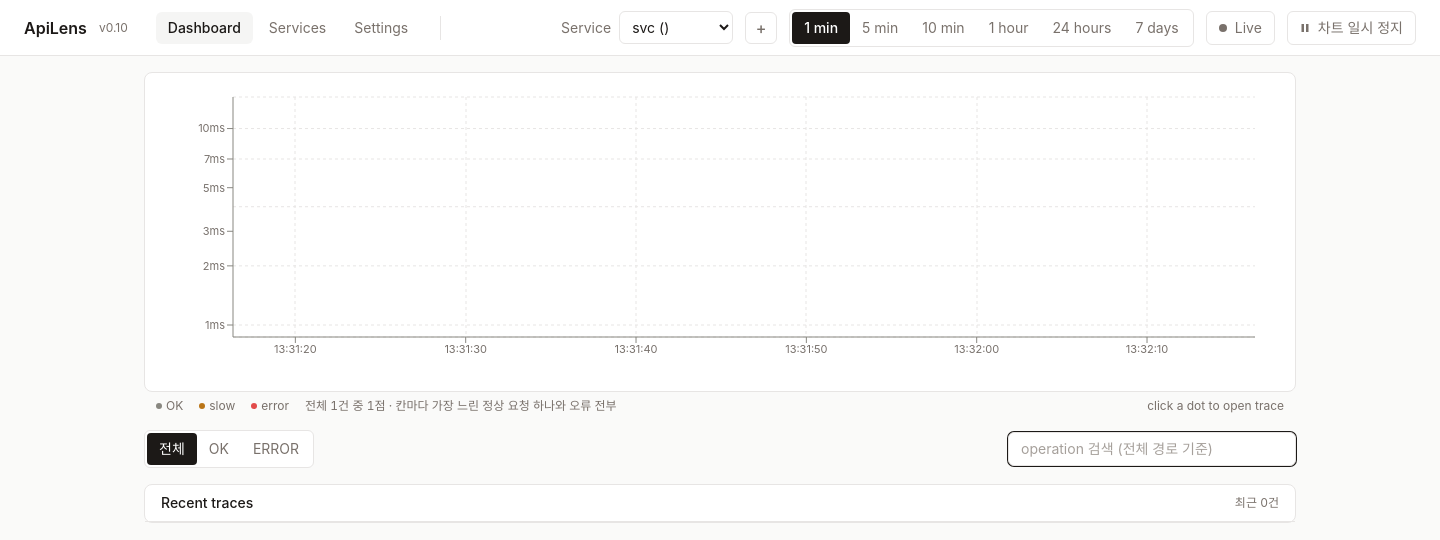
Test case: Dashboard — 흐르는 차트 배선 › keepsSearchFocusAndTypedTextAcrossZeroAndResults — 결과 → 0건
In the field labelled "operation 검색": (1152, 449) [1008,432,1296,466], type "ab"
Wait 350 ms
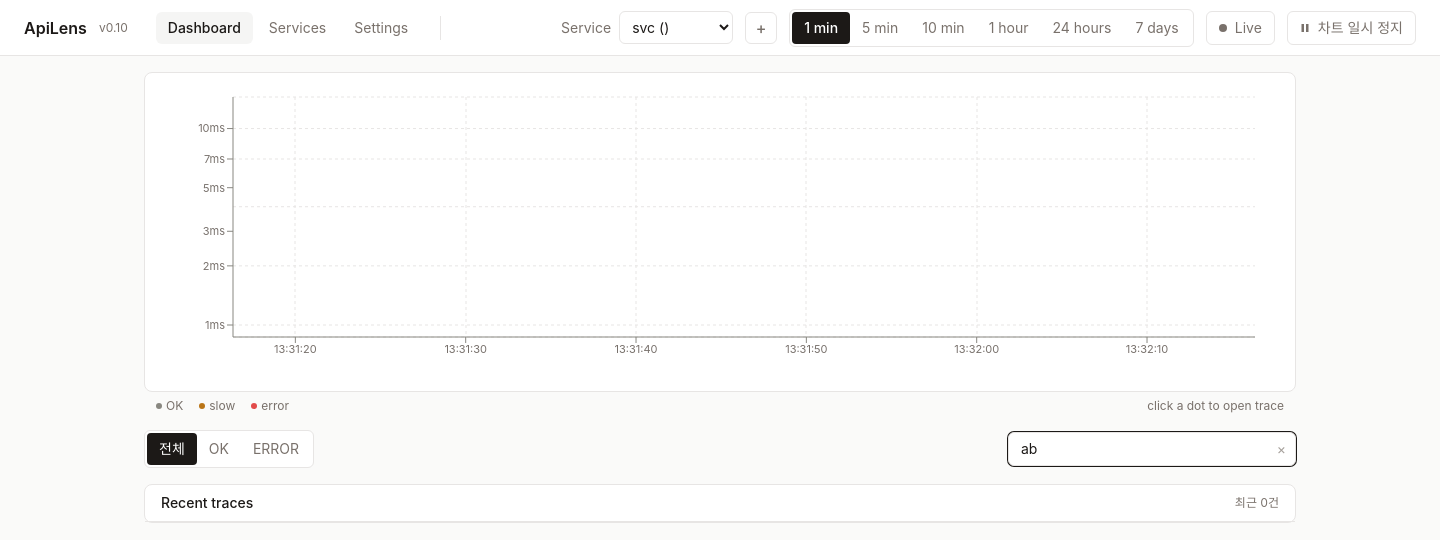
Note: 주소로 밀려난 뒤 더 친 글자.
Replace the text in the field named "operation 검색" with "abc": (1152, 449) [1008,432,1296,466]
Wait 100 ms
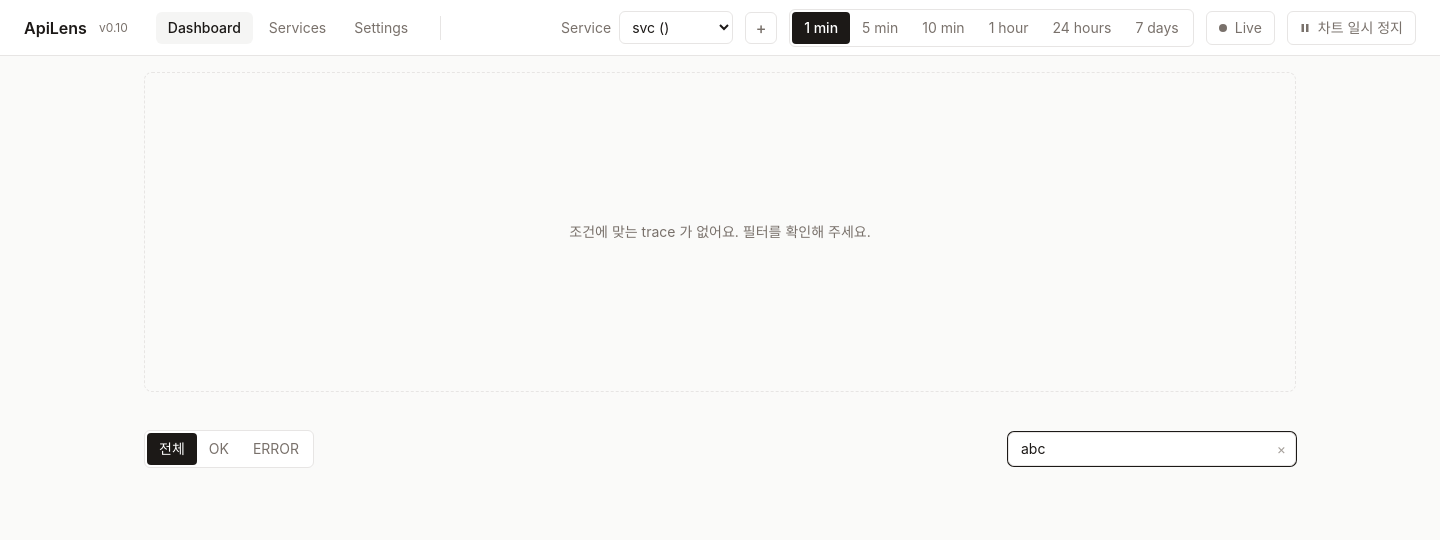
Check: the text "조건에 맞는 trace 가 없어요. 필터를 확인해 주세요." is shown, box [569,222,871,242]
